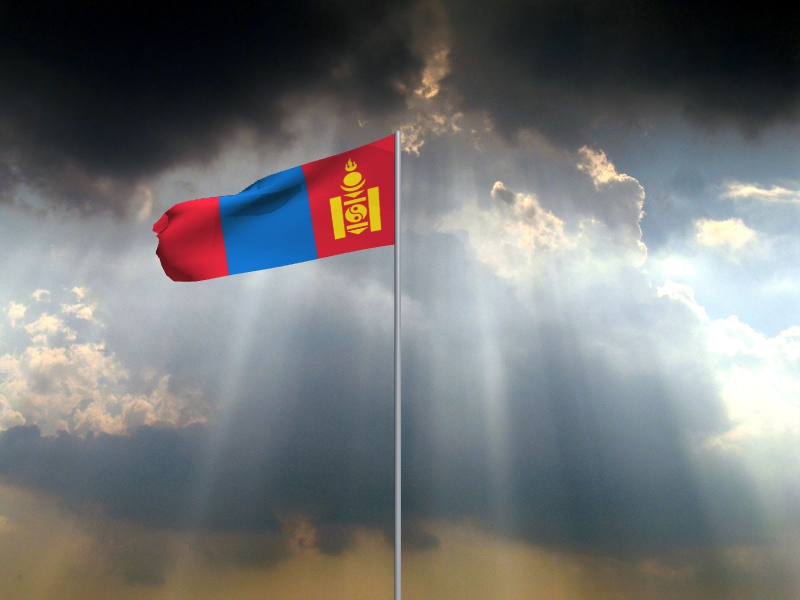mn: (152, 135, 394, 284)
